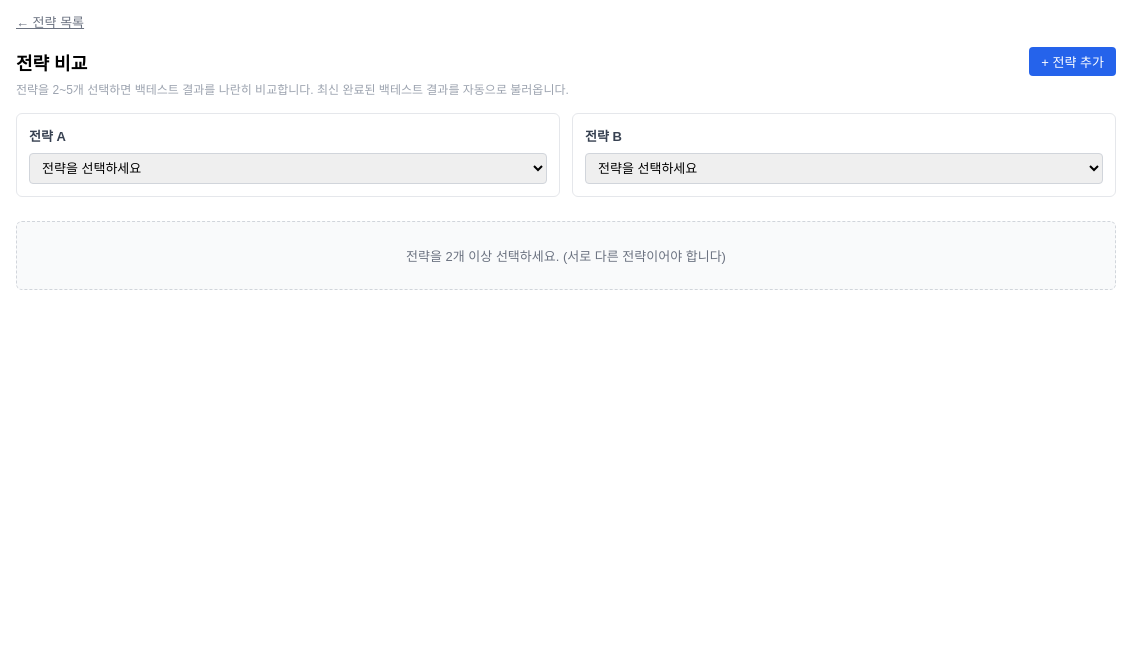
Test: StrategyComparePage › 백테스트 summary가 있을 때 총수익률 표시
Select "전략 A" in the dropdown with test id "compare-left" at [288, 168], box [29, 153, 547, 184]
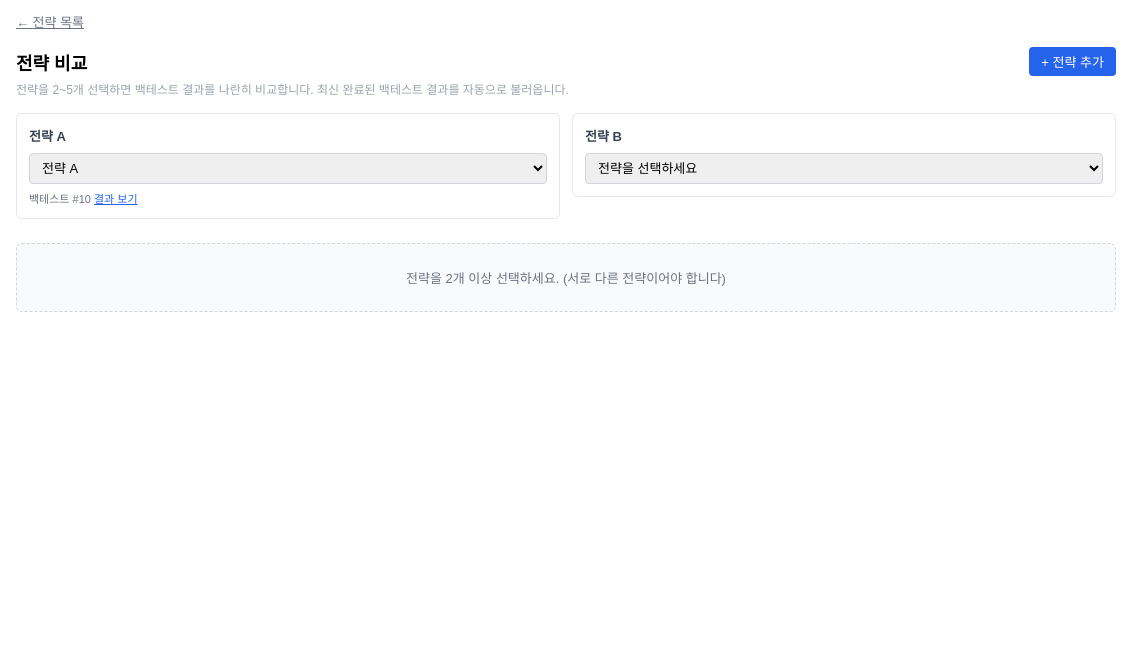
Select "전략 B" in the dropdown with test id "compare-right" at [844, 168], box [585, 153, 1103, 184]
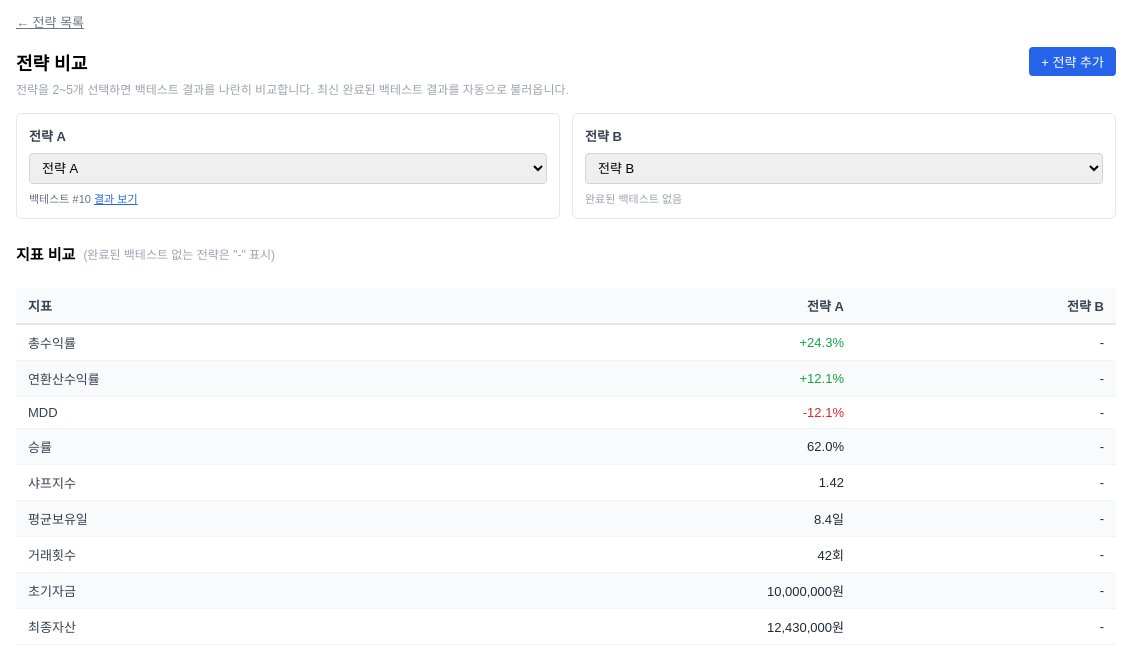
Now the text "+24.3%" is shown, box [800, 335, 844, 350]
